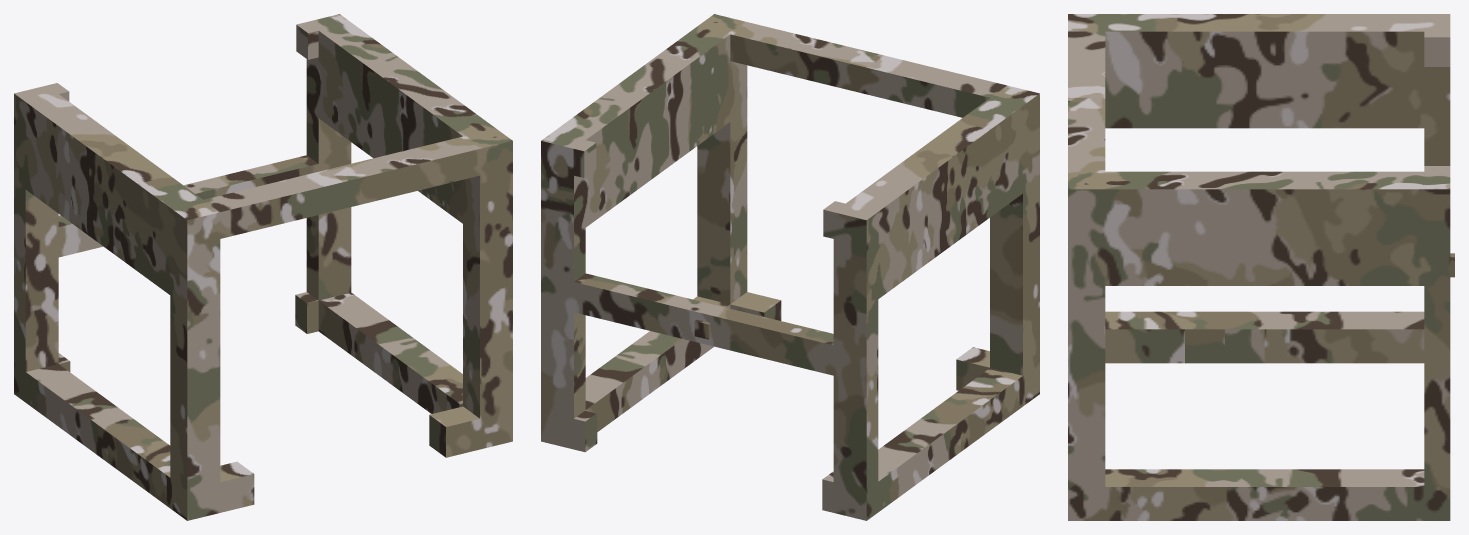
File: armor.fbx
The picture shows the model from 3 angles, left to right: view 1: azimuth 30°, elevation 25°; view 2: azimuth 150°, elevation 25°; view 3: azimuth 270°, elevation 25°; orthographic projection. The views are drawn at different scales.
Parts seen in each view (by area): view 1: armor; view 2: armor; view 3: armor.
Part boxes in pixels (x1=…): armor: x1=14, y1=14, x2=512, y2=520; armor: x1=541, y1=14, x2=1039, y2=520; armor: x1=1068, y1=14, x2=1454, y2=520.
Bounding box in the file's own units: 59.45 × 52.45 × 55.45.
